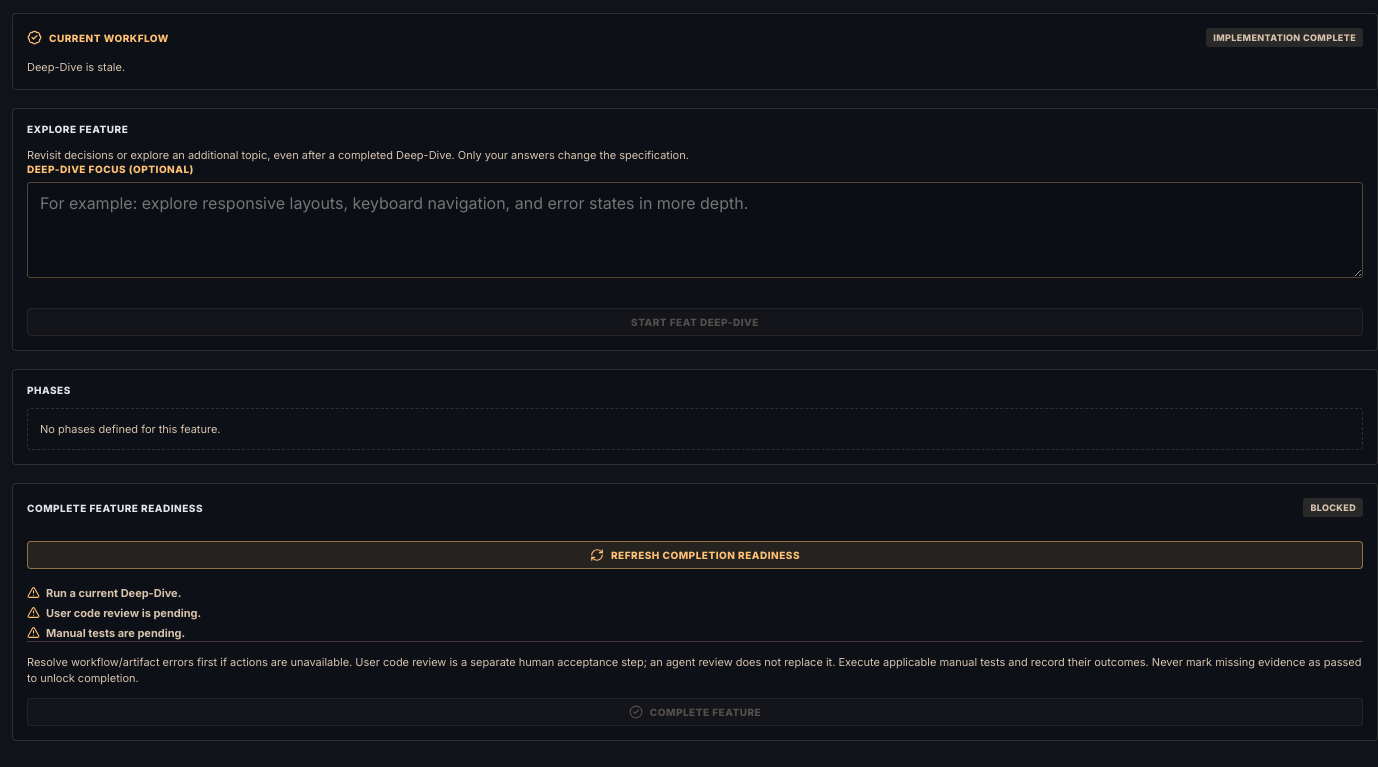
Test: WorkflowInteractionPanel › shows refresh failures without discarding the existing blockers
Click the button "Refresh Completion Readiness".
click(695, 555)  # box [27,541,1363,569]
(page scrolled)
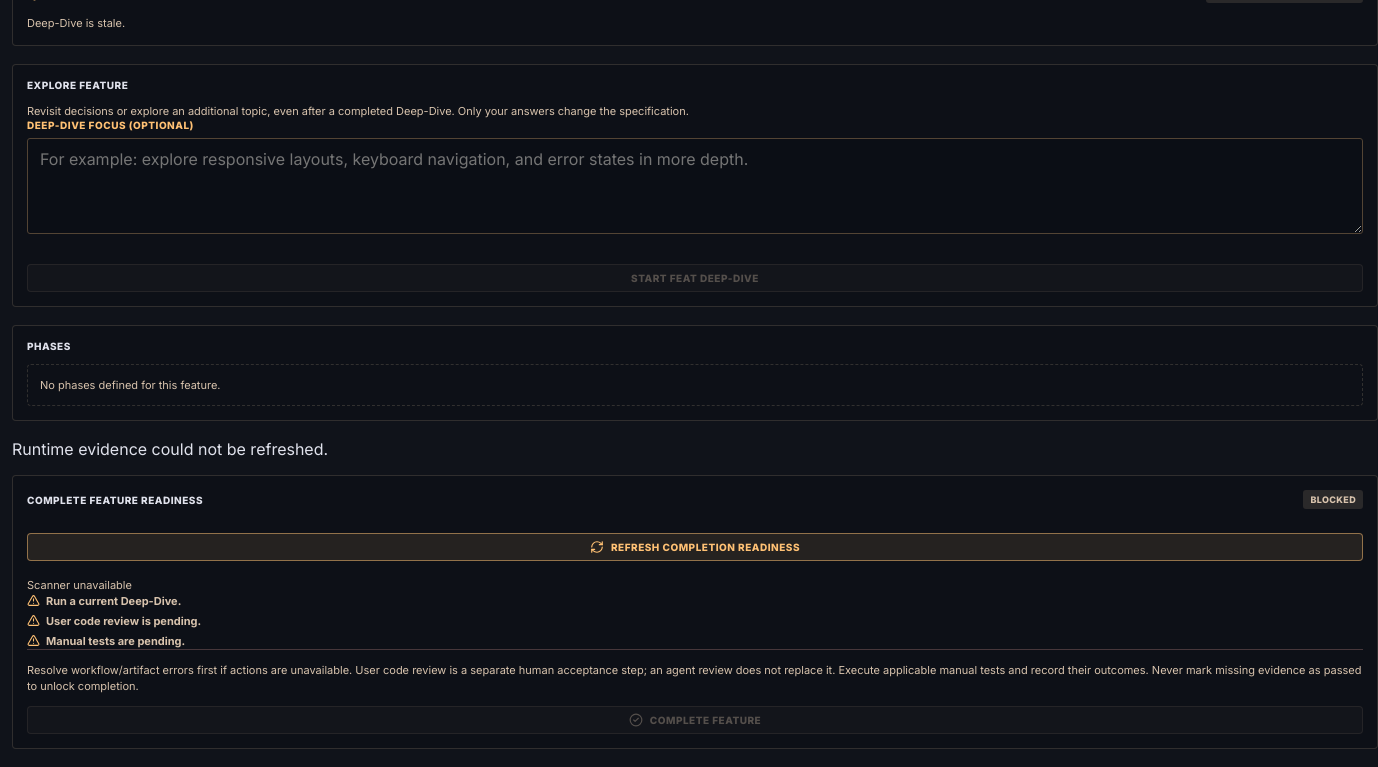
expect the button "Complete Feature" is disabled: met, box [27,706,1363,734]
expect the message "Scanner unavailable" is shown: met, box [27,578,132,592]
